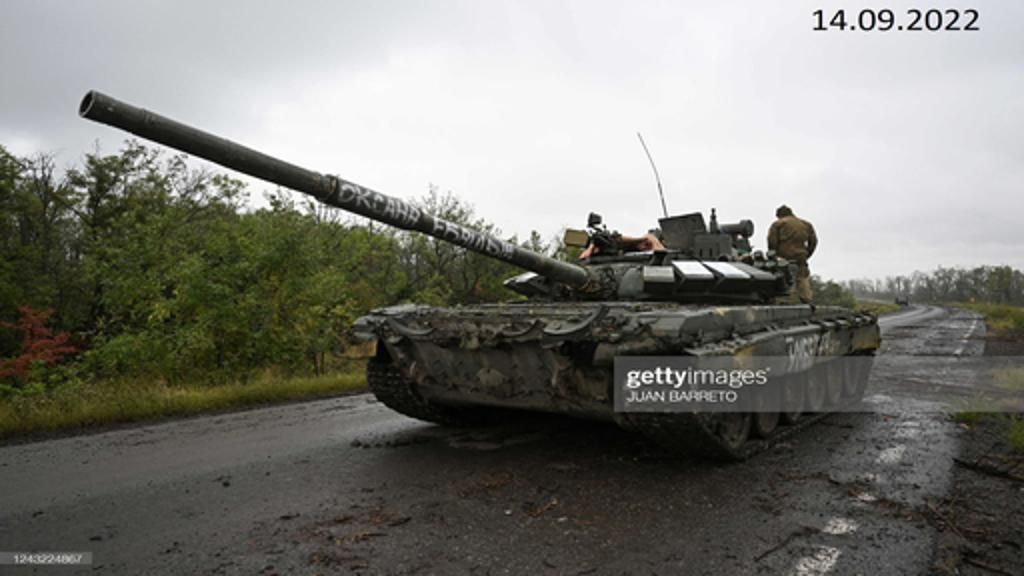TANK: (64, 70, 886, 460)
